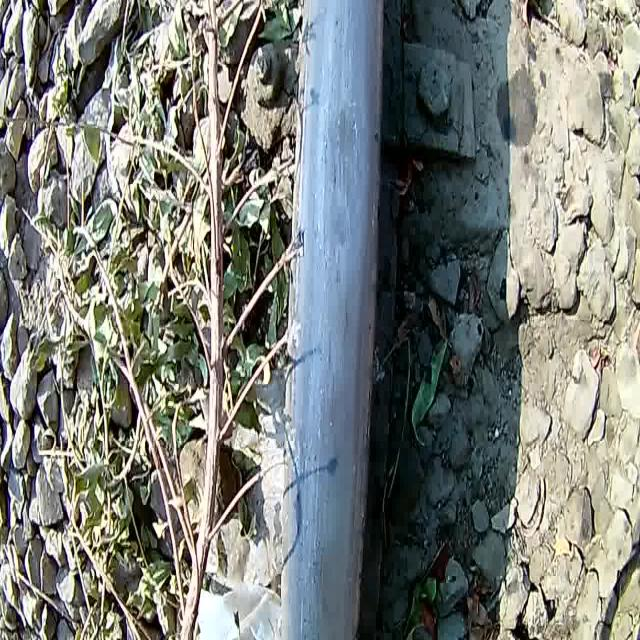Squats: (260, 0, 400, 640)
